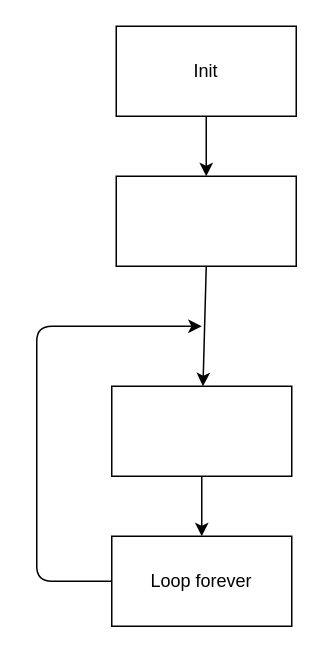
Some shapes in this 323 by 653 pixel diagram are drawn without their labels. The shapes that lost their labels are listed below. From the top down, each one's box as (x1, y1, x2, y2) in pixels, then its label:
(115, 175, 296, 266): Config Interrupts
(110, 385, 292, 476): Send temp
